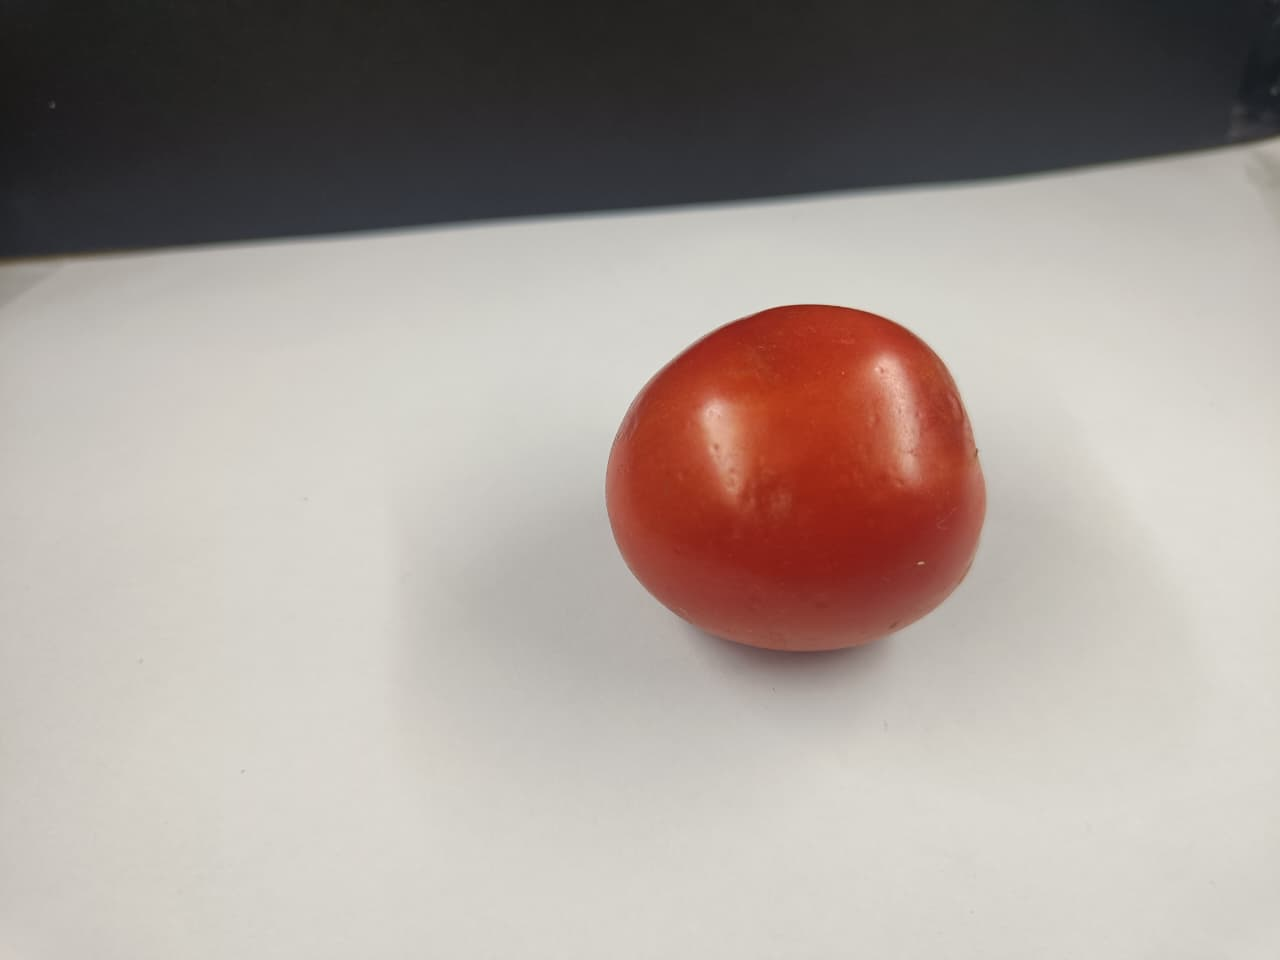ripe: (562, 301, 1028, 655)
